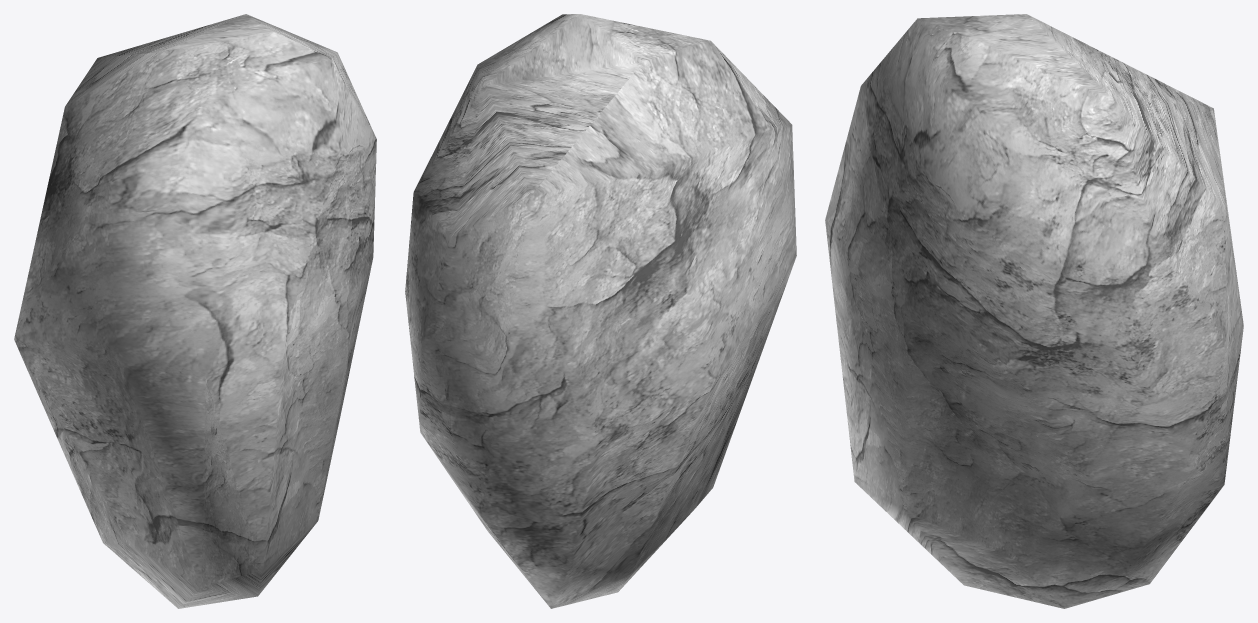
File: Rock_Big_01.fbx
The picture shows the model from 3 angles, left to right: view 1: azimuth 30°, elevation 25°; view 2: azimuth 150°, elevation 25°; view 3: azimuth 270°, elevation 25°; orthographic projection. The views are drawn at different scales.
Visible parts, largest first — view 1: Rock_Big_01; view 2: Rock_Big_01; view 3: Rock_Big_01.
Part boxes in pixels (x1=…): Rock_Big_01: x1=14, y1=14, x2=376, y2=608; Rock_Big_01: x1=405, y1=14, x2=796, y2=608; Rock_Big_01: x1=825, y1=14, x2=1243, y2=608.
Bounding box in the file's own units: 4410 × 7559 × 4911.
